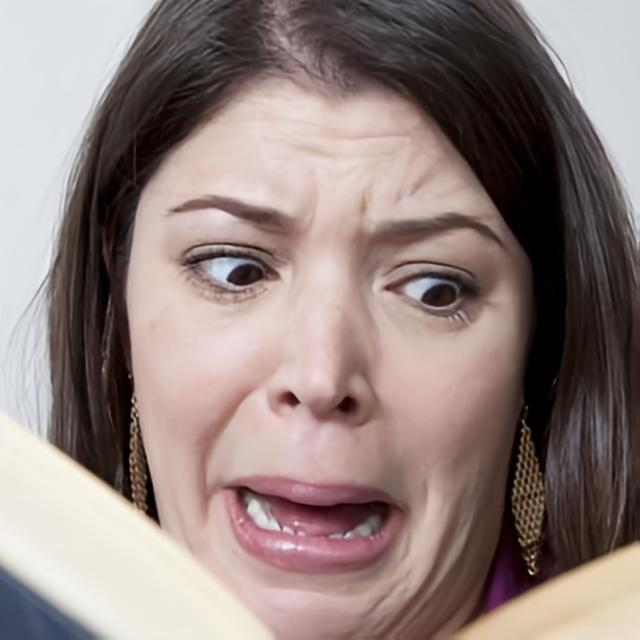fear: (121, 70, 532, 636)
